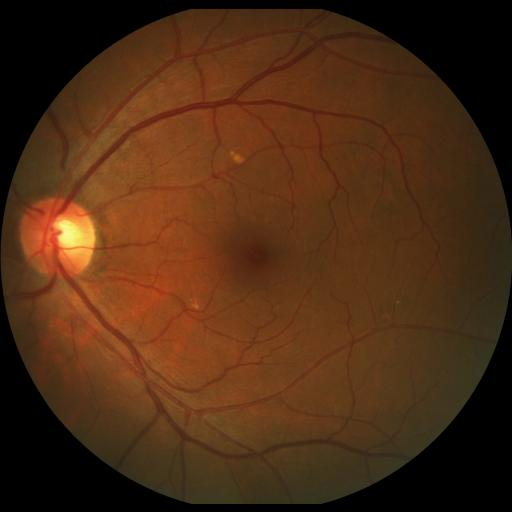Optic Cup: (47, 220, 82, 255)
Optic Disc: (20, 197, 96, 278)
